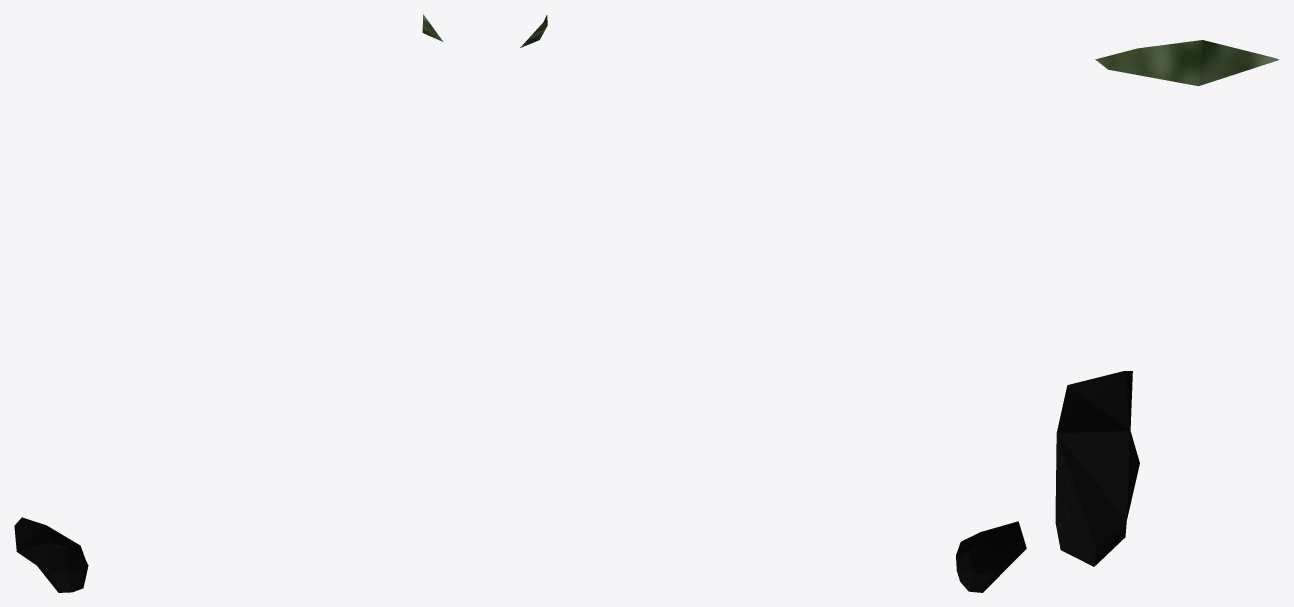
3 views of the same model, side by side, from view 1: azimuth 30°, elevation 25°; view 2: azimuth 150°, elevation 25°; view 3: azimuth 270°, elevation 25° (orthographic). The views are drawn at different scales.
Size of the model in its own units: 2.51 by 2.4 by 0.5435.
1 material, 1 textured.
